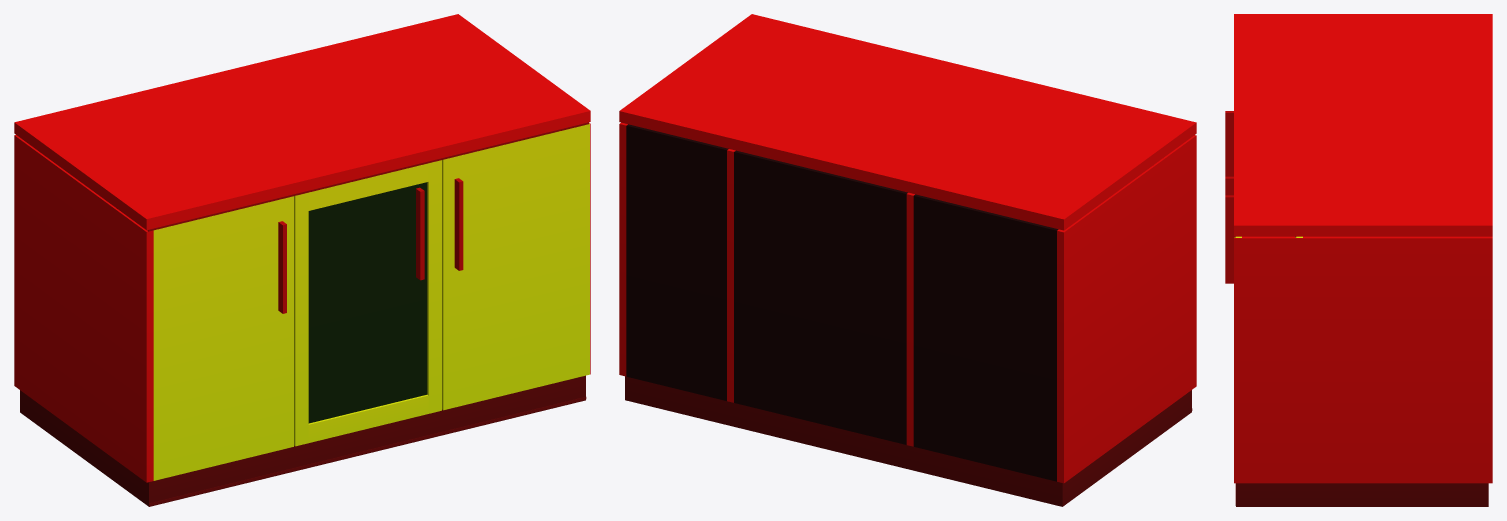
Rendered from stand_reef_pro.glb.
3 views of the same model, side by side, from view 1: azimuth 30°, elevation 25°; view 2: azimuth 150°, elevation 25°; view 3: azimuth 270°, elevation 25° (orthographic). The views are drawn at different scales.
Parts seen in each view (by area): view 1: display_120, nano_cube_20, rimless_40, long_reef_60; view 2: display_120, rimless_40, long_reef_60, nano_cube_20; view 3: display_120, long_reef_60, rimless_40, nano_cube_20.
Part boxes in pixels (x1=…): display_120: x1=14, y1=14, x2=590, y2=506; nano_cube_20: x1=14, y1=84, x2=257, y2=475; rimless_40: x1=17, y1=40, x2=451, y2=194; long_reef_60: x1=14, y1=14, x2=554, y2=481; display_120: x1=619, y1=14, x2=1196, y2=506; rimless_40: x1=727, y1=63, x2=1162, y2=505; long_reef_60: x1=620, y1=37, x2=1165, y2=505; nano_cube_20: x1=906, y1=116, x2=1154, y2=506; display_120: x1=1225, y1=14, x2=1492, y2=506; long_reef_60: x1=1295, y1=14, x2=1492, y2=506; rimless_40: x1=1295, y1=15, x2=1492, y2=174; nano_cube_20: x1=1315, y1=14, x2=1492, y2=88.
Bounding box in the file's own units: 126 × 78.4 × 67.2.
